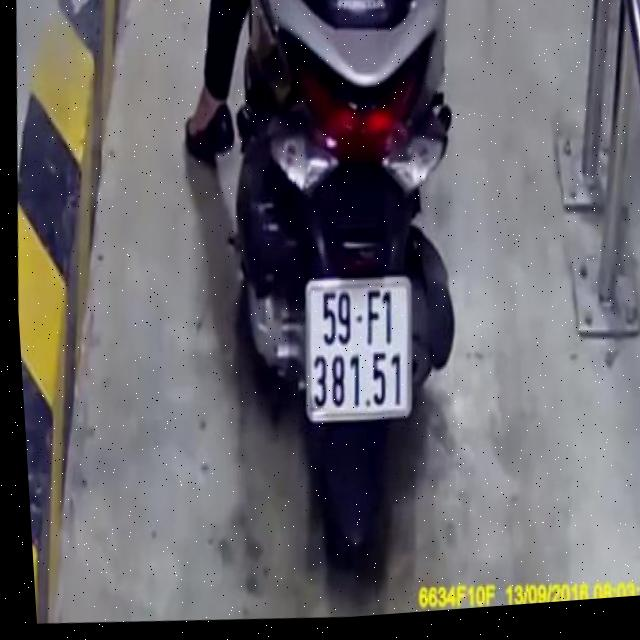motorcycle: (196, 0, 483, 583)
plate: (292, 267, 424, 429)
